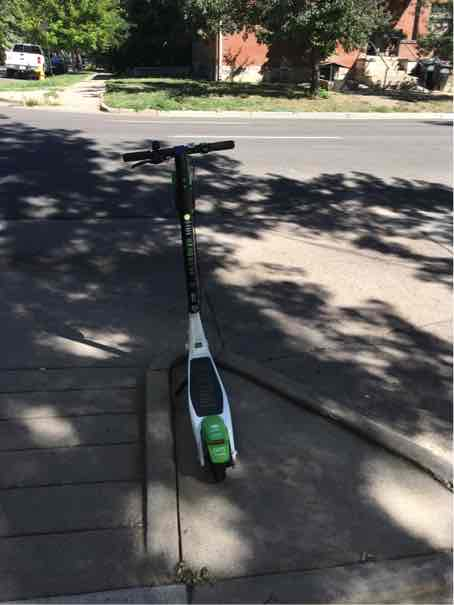scooter: (109, 133, 260, 483)
